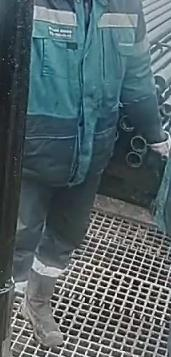gloves: (146, 126, 171, 172)
vest: (28, 0, 144, 176)
